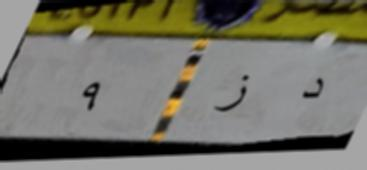9: (73, 75, 108, 123)
daal: (289, 70, 333, 109)
zay: (202, 65, 257, 118)
